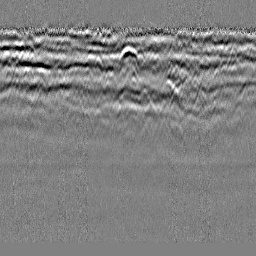cavity: (117, 44, 139, 64)
